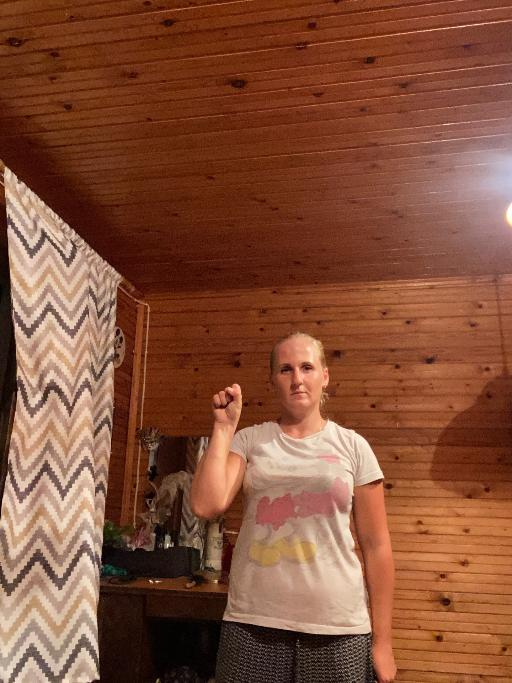fist: (210, 382, 244, 429)
no_gesture: (368, 639, 398, 682)
